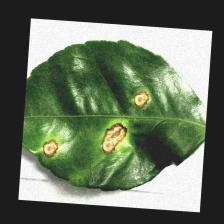canker: (38, 83, 150, 168)
